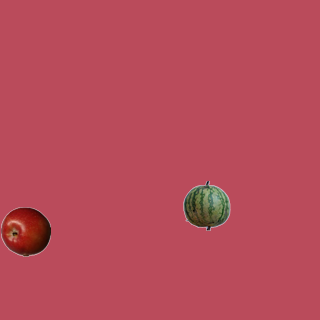Apple Braeburn: (0, 206, 50, 256)
Watermelon: (181, 180, 231, 230)
